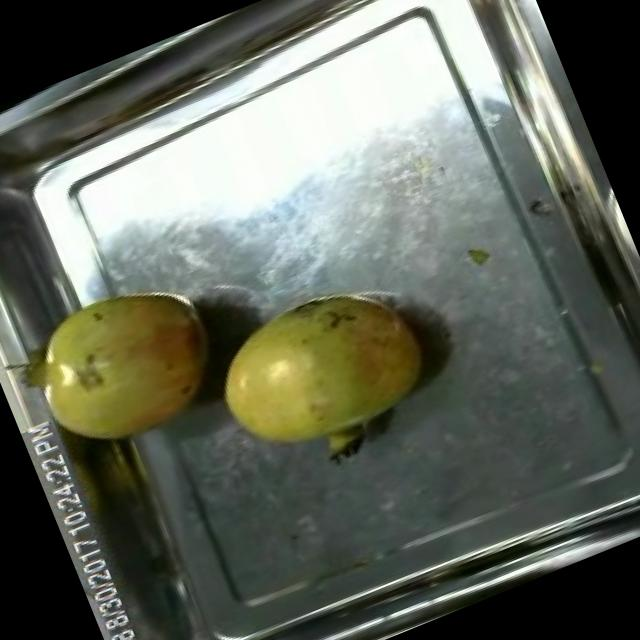fruit: (192, 257, 460, 497), (5, 255, 246, 475)
